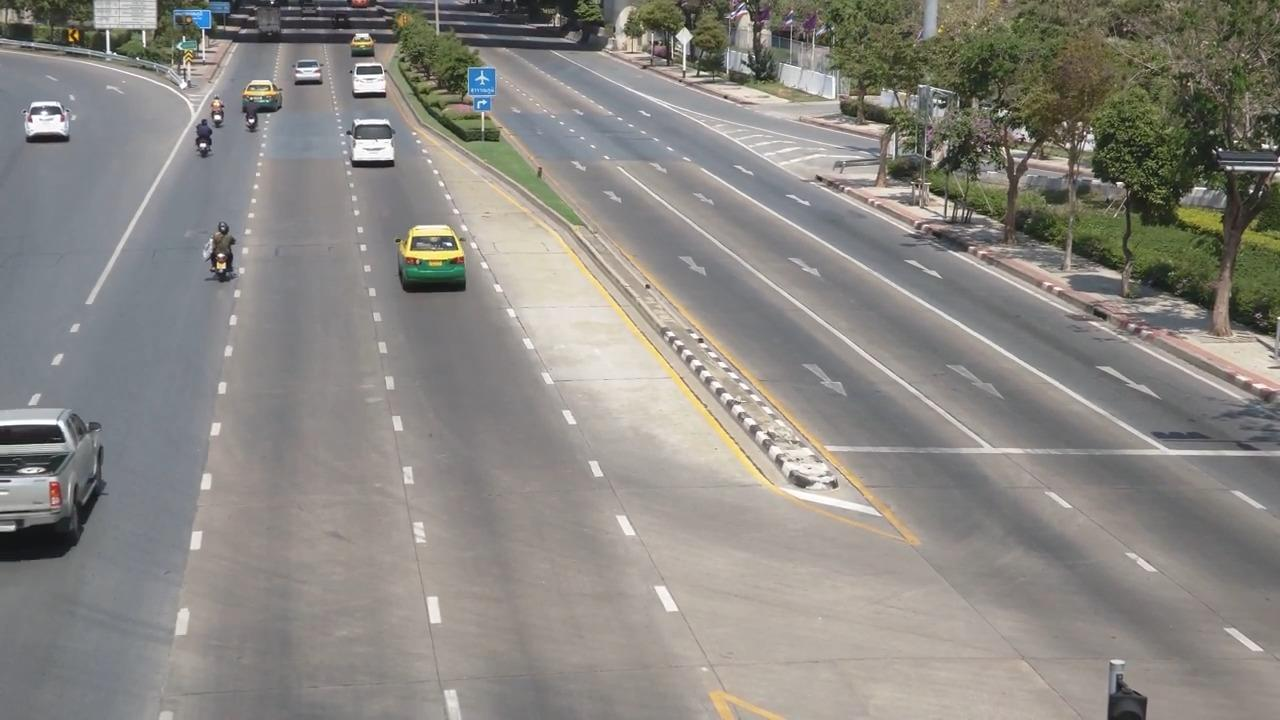CAR: (0, 379, 122, 589), (384, 214, 485, 314), (342, 108, 416, 187), (14, 91, 79, 172), (338, 57, 409, 118), (280, 54, 342, 99), (238, 73, 287, 118), (337, 29, 388, 65), (248, 6, 285, 46)
MOTOR: (181, 216, 260, 309), (235, 96, 276, 161), (169, 134, 210, 198), (191, 100, 225, 148)
